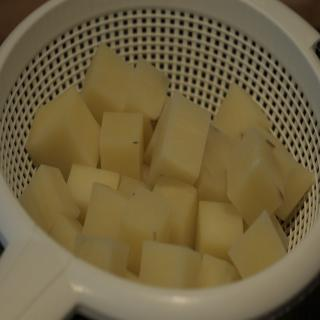Potato: (18, 42, 316, 288)
